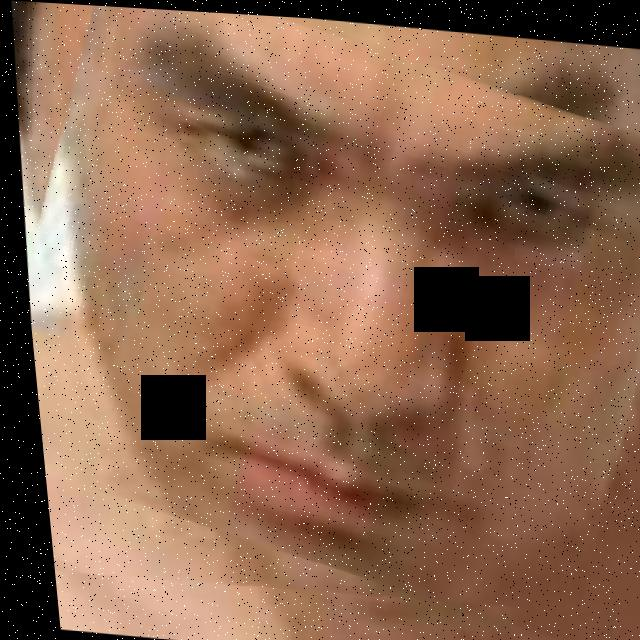anger: (0, 0, 640, 623)
